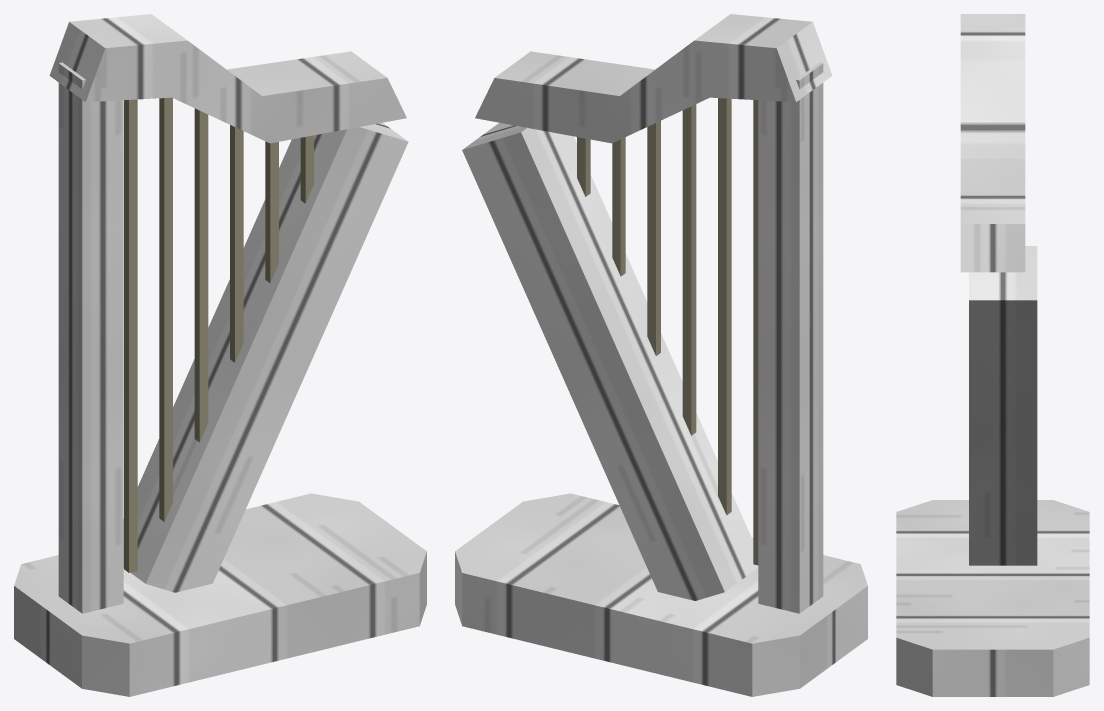
The model's file is harp.obj.
3 renders of one model, left to right at view 1: azimuth 30°, elevation 25°; view 2: azimuth 150°, elevation 25°; view 3: azimuth 270°, elevation 25°, orthographic. The views are drawn at different scales.
Visible parts, largest first — view 1: harp; view 2: harp; view 3: harp.
Boxes of the visible parts, bbox=[...] form: harp: bbox=[14, 14, 426, 696]; harp: bbox=[455, 14, 867, 696]; harp: bbox=[896, 14, 1089, 696].
Size of the model in its own units: 0.8854 by 1.51 by 0.48.
